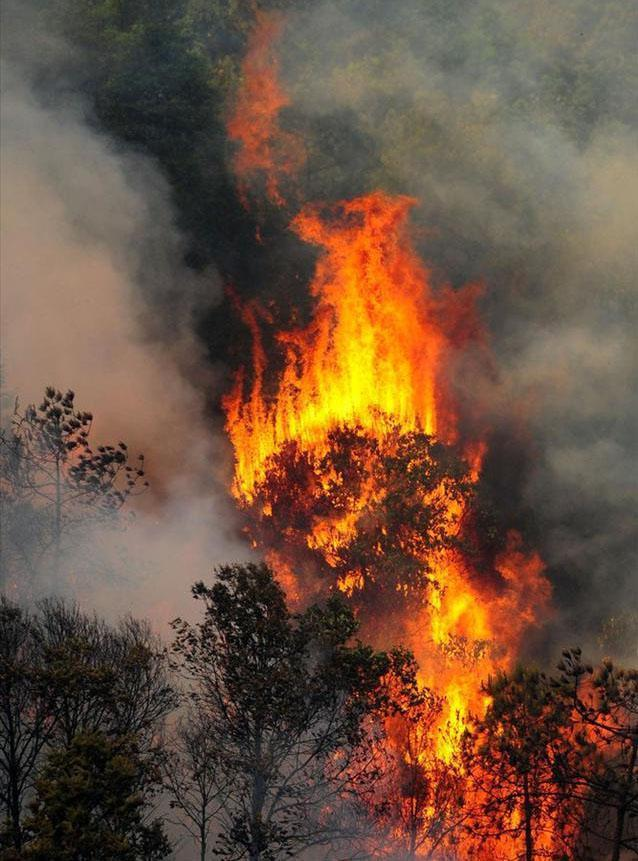fire: (206, 207, 603, 861), (222, 30, 307, 204)
